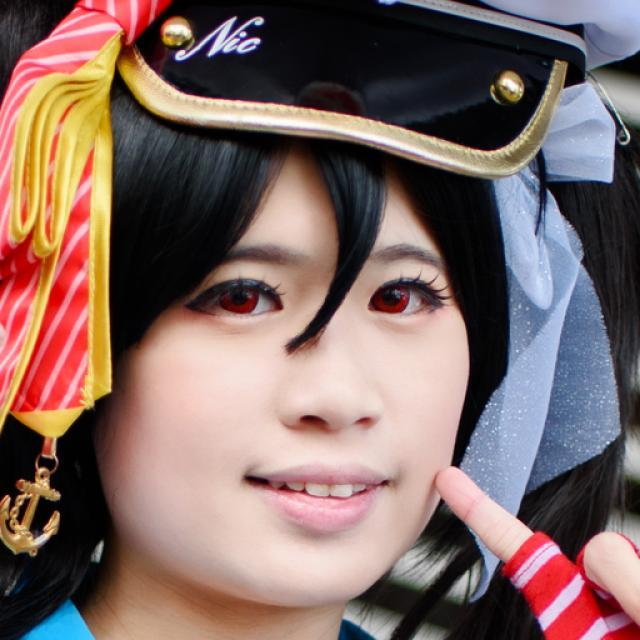happy: (122, 137, 470, 605)
